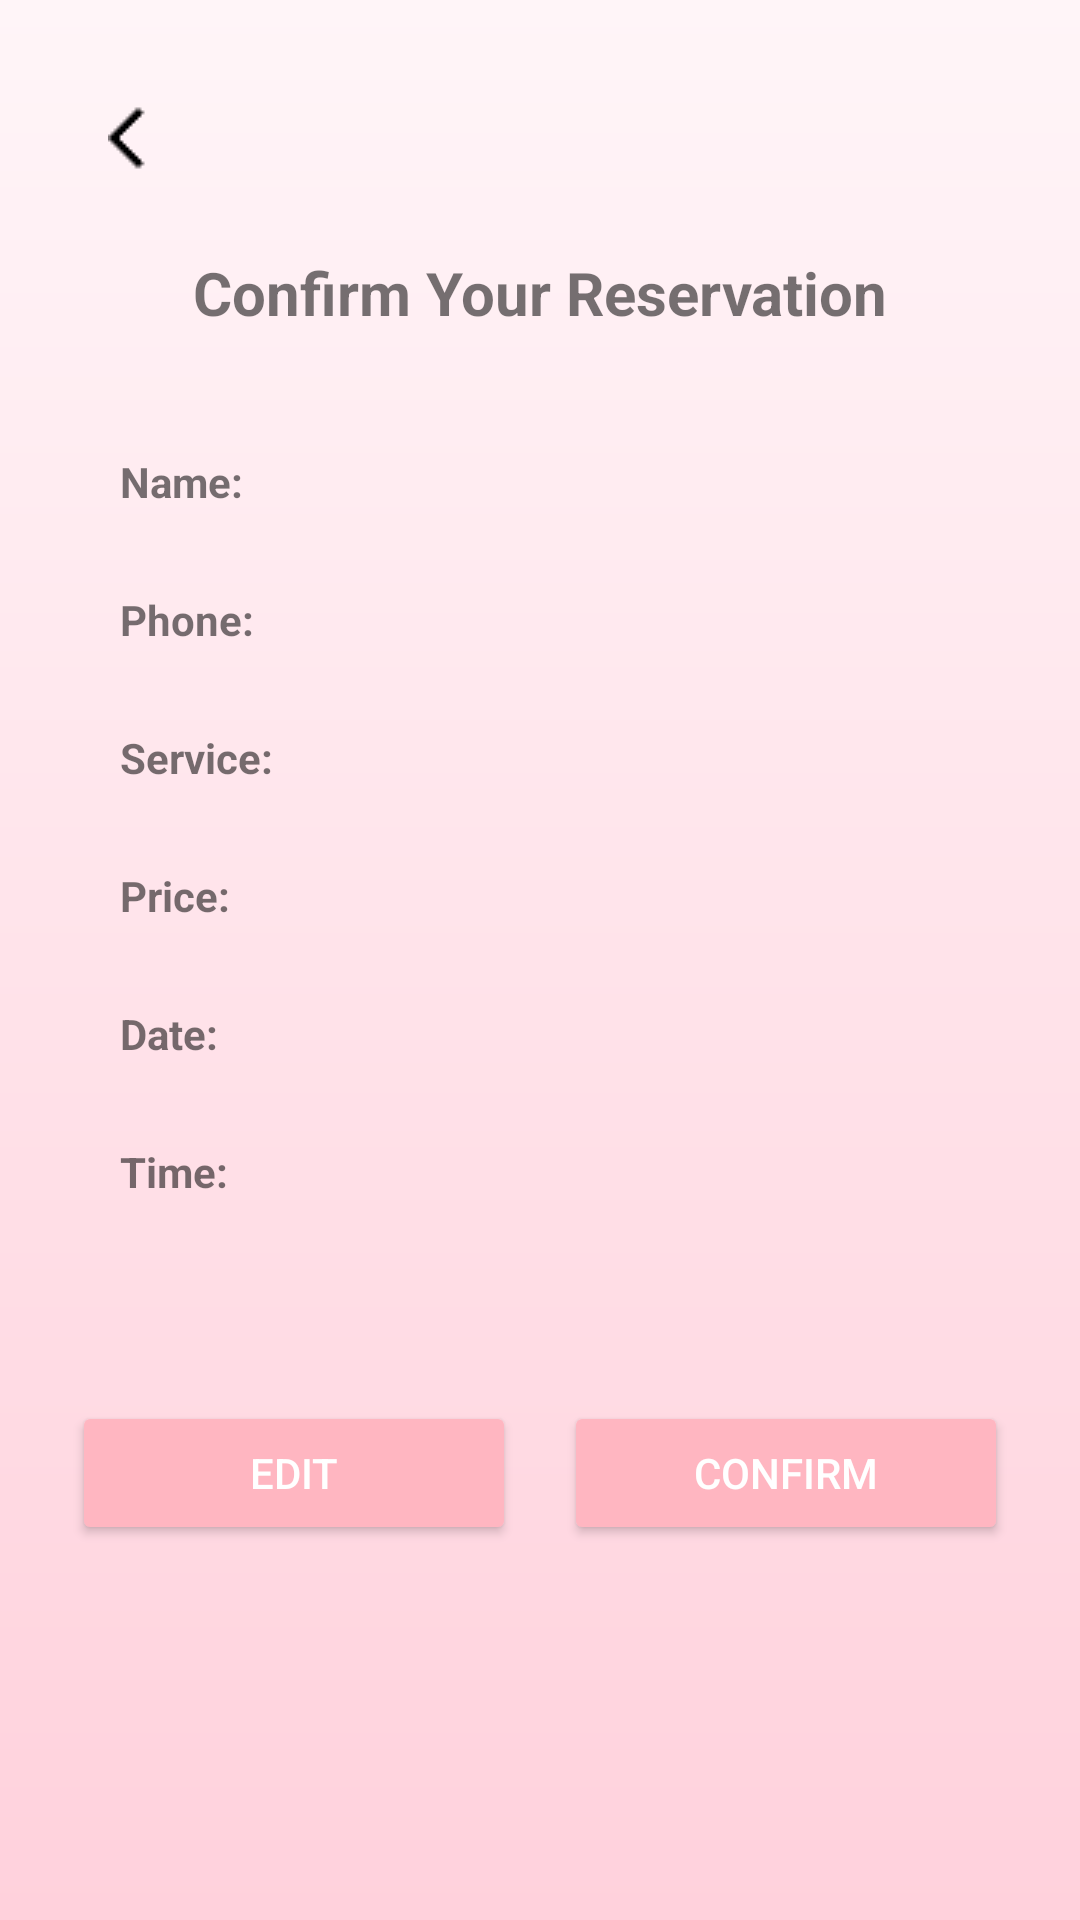

Locate icon controls on the screen. Image size 1080 × 1920, boxes as (x1, y1, x2, y2).
back: (108, 107, 145, 169)
